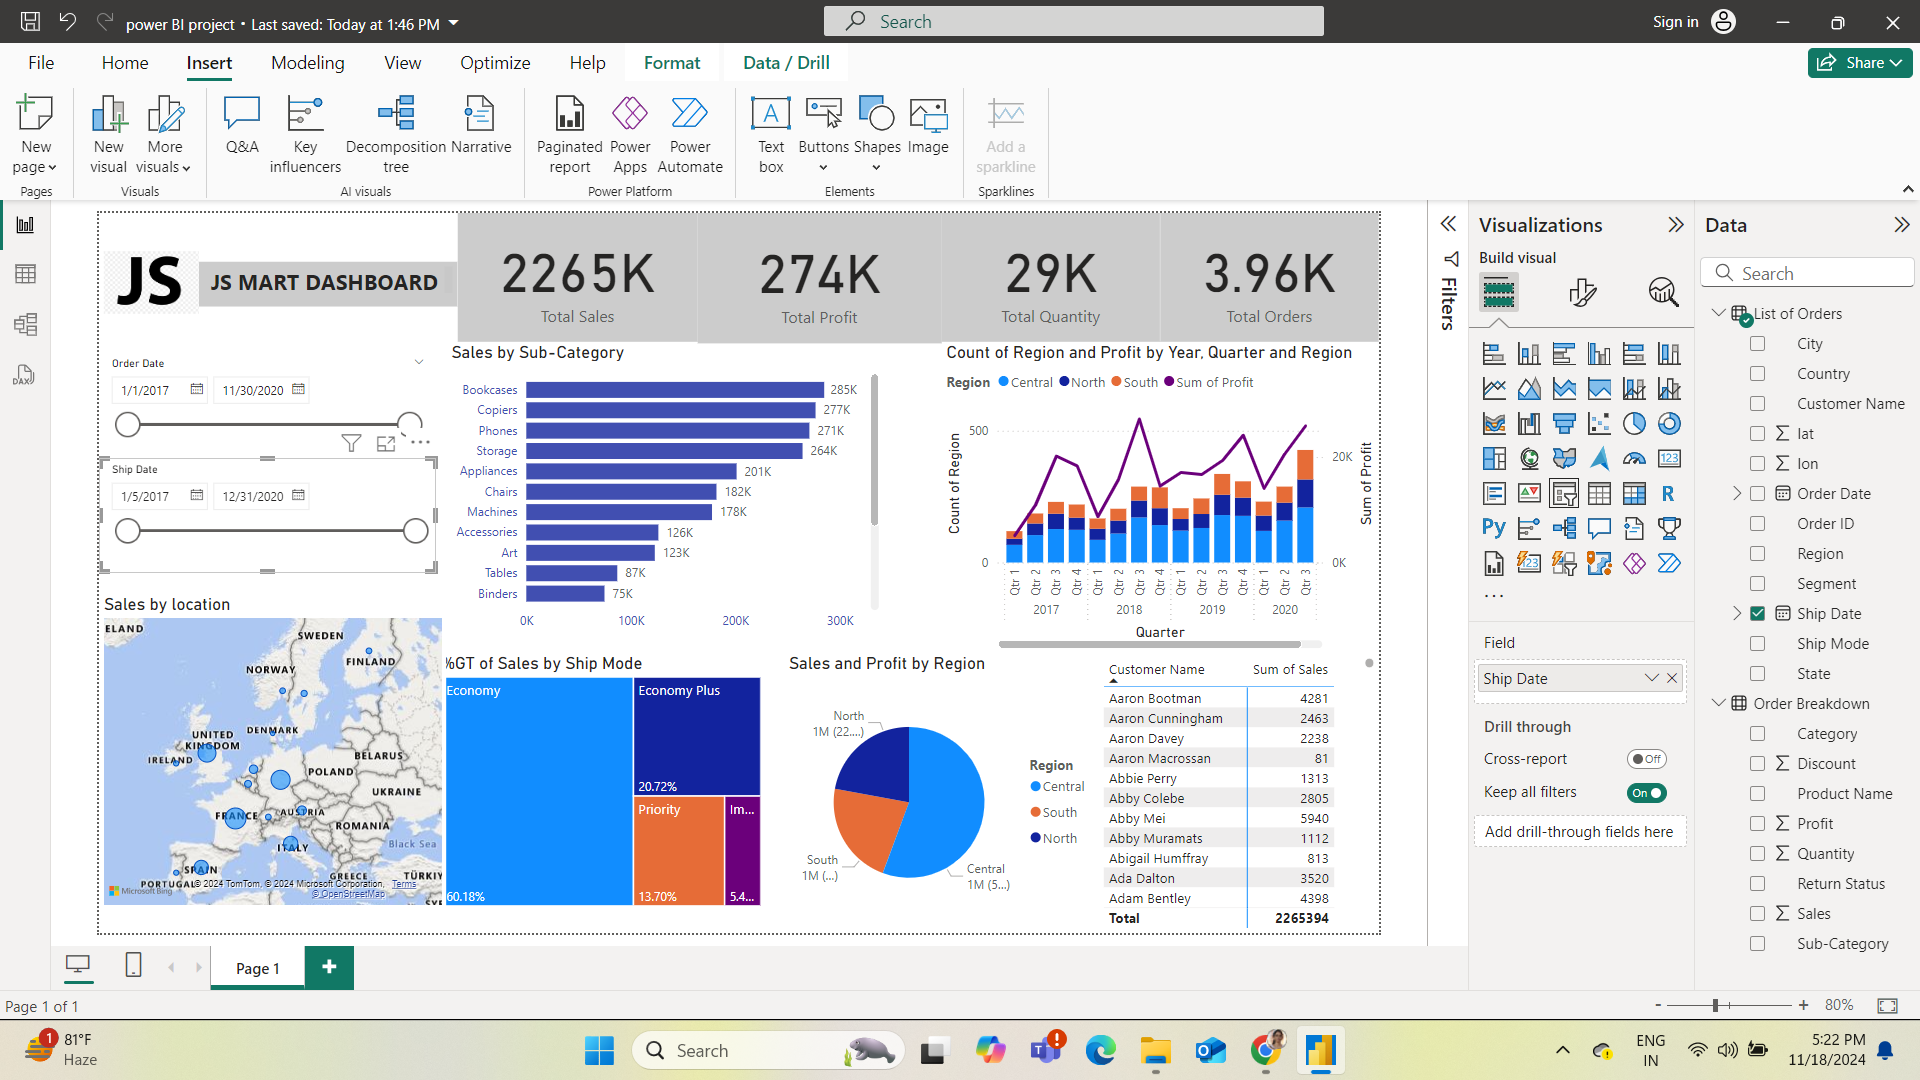

This screenshot's page, from the dashboard's own definition file:
{"tool":"powerbi","page":{"name":"Page 1","canvas":[1280,720],"ordinal":0},"visuals":[{"type":"pivotTable","fields":{"Rows":["List of Orders.Customer Name"],"Values":["Sum(Order Breakdown.Sales)"]},"box":[1000.3,440.5,279.9,279.9],"z":0},{"type":"clusteredBarChart","title":" Sales by Sub-Category","fields":{"Category":["Order Breakdown.Sub-Category","Order Breakdown.Profit"],"Y":["Sum(Order Breakdown.Sales)"]},"box":[347.5,128.8,437.5,297.5],"z":1000},{"type":"pieChart","title":" Sales and Profit by Region","fields":{"Category":["List of Orders.Region"],"Y":["Sum(Order Breakdown.Sales)"]},"box":[684.7,440.5,315.6,279.9],"z":2000},{"type":"treemap","title":"%GT of Sales by Ship Mode","fields":{"Values":["Sum(Order Breakdown.Sales)"],"Group":["List of Orders.Ship Mode"]},"box":[337.6,440.5,329.3,258],"z":3000},{"type":"lineStackedColumnComboChart","title":"Count of Region  and Profit by Year, Quarter and Region","fields":{"Y2":["Sum(Order Breakdown.Profit)"],"Y":["CountNonNull(List of Orders.Region)"],"Category":["List of Orders.Order Date.Variation.Date Hierarchy.Year","List of Orders.Order Date.Variation.Date Hierarchy.Quarter"],"Series":["List of Orders.Region"]},"box":[842.5,129,437.7,311.5],"z":4000},{"type":"map","title":"Sales by location","fields":{"Category":["List of Orders.Country","List of Orders.State","List of Orders.City"],"Size":["Sum(Order Breakdown.Sales)"]},"box":[0,381.2,347.5,316.2],"z":5000},{"type":"card","fields":{"Values":["Sum(Order Breakdown.Sales)"]},"box":[358.8,0,240,128.8],"z":5001},{"type":"card","fields":{"Values":["Sum(Order Breakdown.Profit)"]},"box":[598.8,0,243.8,130],"z":5003},{"type":"card","fields":{"Values":["Sum(Order Breakdown.Quantity)"]},"box":[842.5,0,218.8,128.8],"z":5004},{"type":"card","fields":{"Values":["CountNonNull(List of Orders.Order ID)"]},"box":[1061.2,0,218.8,128.8],"z":5005},{"type":"image","box":[0,0,105,138.8],"z":5006},{"type":"textbox","box":[100,48.8,258.8,45],"z":5007},{"type":"slicer","fields":{"Values":["List of Orders.Order Date"]},"box":[0,138.8,337.5,106.2],"z":5008},{"type":"slicer","fields":{"Values":["List of Orders.Ship Date"]},"box":[0,245,337.5,115],"z":5009}]}

Visuals, with their boxes on the page's 1280x720 design canvas (x1, y1, x2, y2). These are canvas units, not pixel positions in the 1920x1080 screenshot, which may show the page scaled, cropped or inside an application window:
pivotTable - List of Orders.Customer Name x Sum(Order Breakdown.Sales): 1000/440/1280/720
" Sales by Sub-Category" clusteredBarChart: 348/129/785/426
" Sales and Profit by Region" pieChart: 685/440/1000/720
"%GT of Sales by Ship Mode" treemap: 338/440/667/698
"Count of Region  and Profit by Year, Quarter and Region" lineStackedColumnComboChart: 842/129/1280/440
"Sales by location" map: 0/381/348/697
card - Sum(Order Breakdown.Sales): 359/0/599/129
card - Sum(Order Breakdown.Profit): 599/0/843/130
card - Sum(Order Breakdown.Quantity): 842/0/1061/129
card - CountNonNull(List of Orders.Order ID): 1061/0/1280/129
image: 0/0/105/139
textbox: 100/49/359/94
slicer - List of Orders.Order Date: 0/139/338/245
slicer - List of Orders.Ship Date: 0/245/338/360
